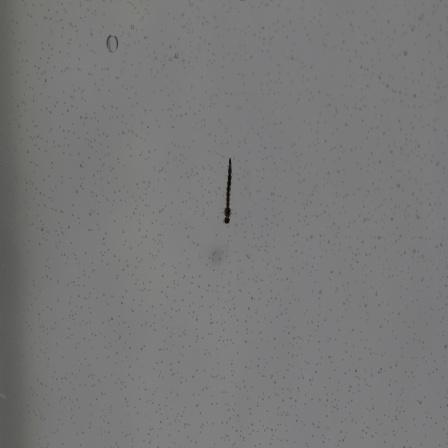Jentik-Nyamuk: (217, 154, 243, 224)
